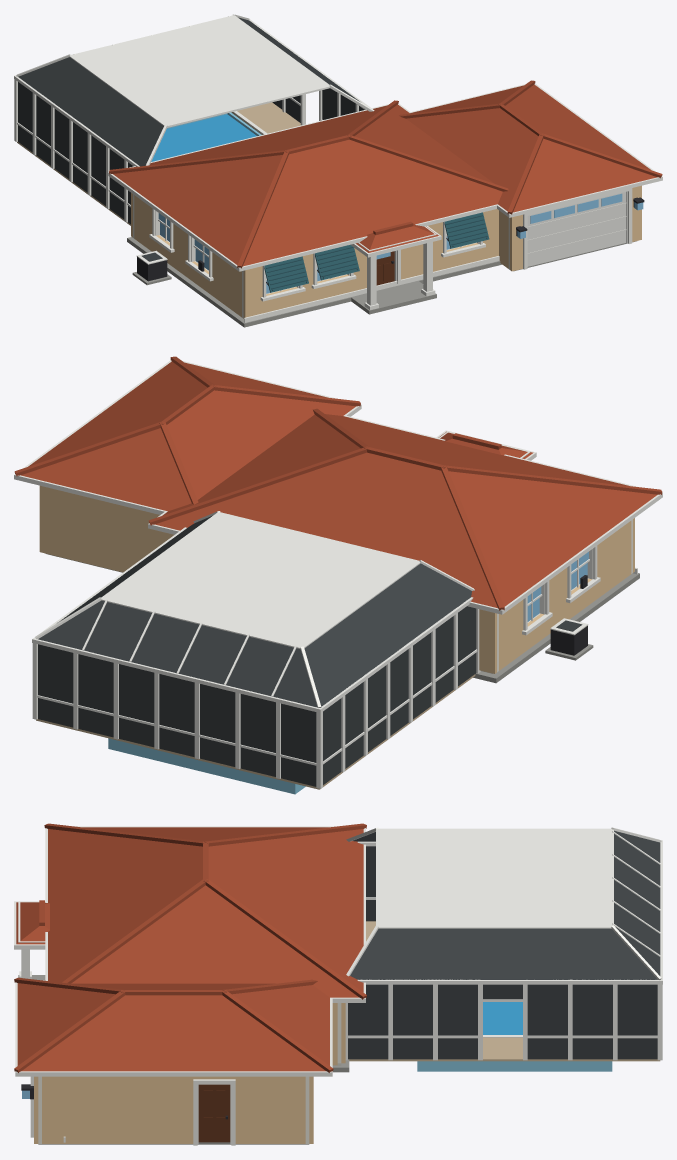
File: FloridaRanch.glb
3 renders of one model, top to bottom at view 1: azimuth 30°, elevation 25°; view 2: azimuth 150°, elevation 25°; view 3: azimuth 270°, elevation 25°, orthographic. The views are drawn at different scales.
Visible parts, largest first — view 1: FloridaRanch_Roof, FloridaRanch_Trim, FloridaRanch_Screen, FloridaRanch_WallsOut, FloridaRanch_GarageDoor1, FloridaRanch_Foundation, FloridaRanch_Shutter, FloridaRanch_Water, FloridaRanch_Pavers, FloridaRanch_Metal, FloridaRanch_GarageGlass1, FloridaRanch_Door1; view 2: FloridaRanch_Roof, FloridaRanch_Screen, FloridaRanch_Trim, FloridaRanch_WallsOut, FloridaRanch_PoolTile, FloridaRanch_Foundation, FloridaRanch_Pavers, FloridaRanch_Metal; view 3: FloridaRanch_Roof, FloridaRanch_Screen, FloridaRanch_Trim, FloridaRanch_WallsOut, FloridaRanch_PoolTile, FloridaRanch_Door5, FloridaRanch_Pavers, FloridaRanch_Water, FloridaRanch_WallsIn, FloridaRanch_Foundation.
Boxes of the visible parts, bbox=[...] form: FloridaRanch_Roof: bbox=[109, 80, 662, 268]; FloridaRanch_Trim: bbox=[14, 14, 662, 322]; FloridaRanch_Screen: bbox=[18, 17, 364, 261]; FloridaRanch_WallsOut: bbox=[131, 185, 641, 318]; FloridaRanch_GarageDoor1: bbox=[527, 192, 626, 266]; FloridaRanch_Foundation: bbox=[127, 237, 636, 327]; FloridaRanch_Shutter: bbox=[264, 212, 489, 292]; FloridaRanch_Water: bbox=[151, 114, 256, 161]; FloridaRanch_Pavers: bbox=[17, 102, 301, 225]; FloridaRanch_Metal: bbox=[137, 197, 644, 290]; FloridaRanch_GarageGlass1: bbox=[530, 193, 622, 223]; FloridaRanch_Door1: bbox=[376, 251, 394, 285]; FloridaRanch_Roof: bbox=[14, 356, 662, 610]; FloridaRanch_Screen: bbox=[38, 515, 582, 786]; FloridaRanch_Trim: bbox=[14, 360, 662, 788]; FloridaRanch_WallsOut: bbox=[39, 485, 634, 673]; FloridaRanch_PoolTile: bbox=[108, 738, 305, 794]; FloridaRanch_Foundation: bbox=[46, 553, 639, 683]; FloridaRanch_Pavers: bbox=[36, 674, 475, 789]; FloridaRanch_Metal: bbox=[550, 575, 587, 655]; FloridaRanch_Roof: bbox=[14, 823, 366, 1072]; FloridaRanch_Screen: bbox=[348, 830, 660, 1059]; FloridaRanch_Trim: bbox=[14, 826, 662, 1145]; FloridaRanch_WallsOut: bbox=[34, 1003, 345, 1143]; FloridaRanch_PoolTile: bbox=[417, 1061, 612, 1071]; FloridaRanch_Door5: bbox=[198, 1084, 230, 1142]; FloridaRanch_Pavers: bbox=[349, 921, 660, 1061]; FloridaRanch_Water: bbox=[483, 1002, 522, 1034]; FloridaRanch_WallsIn: bbox=[38, 1003, 341, 1143]; FloridaRanch_Foundation: bbox=[18, 975, 349, 1144].
Size of the model in its own units: 76.28 by 22.85 by 81.4.
